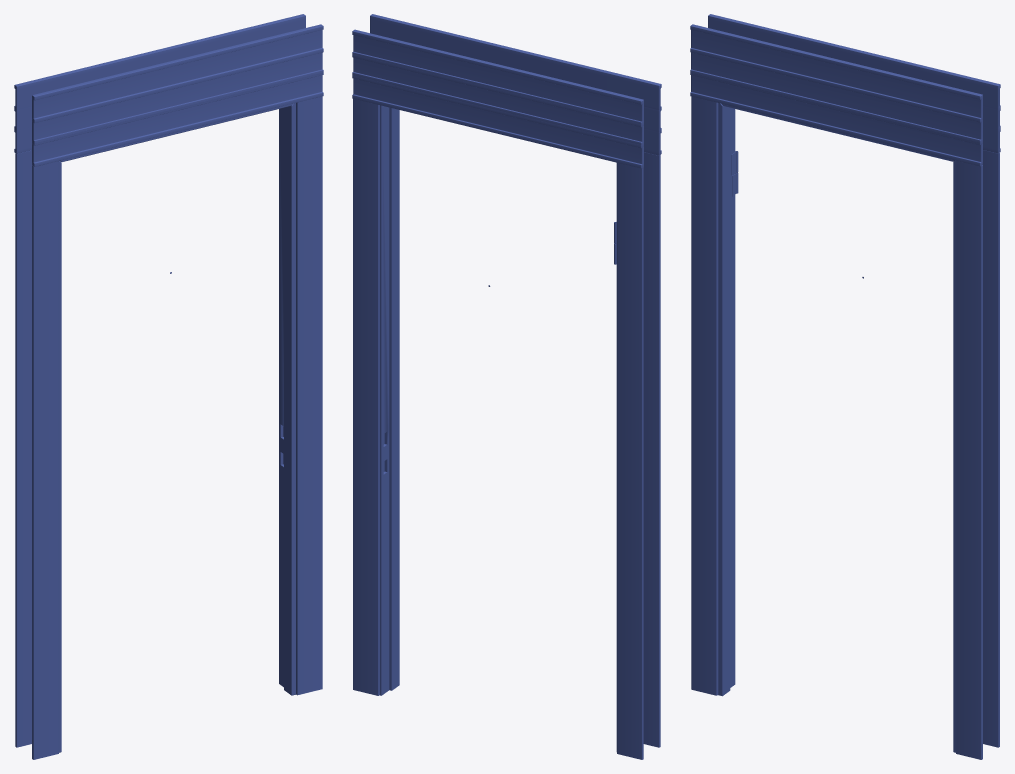
File: MarcoPuerta.obj
3 renders of one model, left to right at view 1: azimuth 30°, elevation 25°; view 2: azimuth 150°, elevation 25°; view 3: azimuth 330°, elevation 25°, orthographic.
Visible parts, largest first — view 1: pasted__pasted__polySurface484 pasted__group56 group57; view 2: pasted__pasted__polySurface484 pasted__group56 group57; view 3: pasted__pasted__polySurface484 pasted__group56 group57.
Boxes of the visible parts, x1,y1,x2,y2 form: pasted__pasted__polySurface484 pasted__group56 group57: (14,14,323,759); pasted__pasted__polySurface484 pasted__group56 group57: (352,14,661,759); pasted__pasted__polySurface484 pasted__group56 group57: (690,14,1000,759).
Size of the model in its own units: 2.82 by 6.19 by 0.347.
